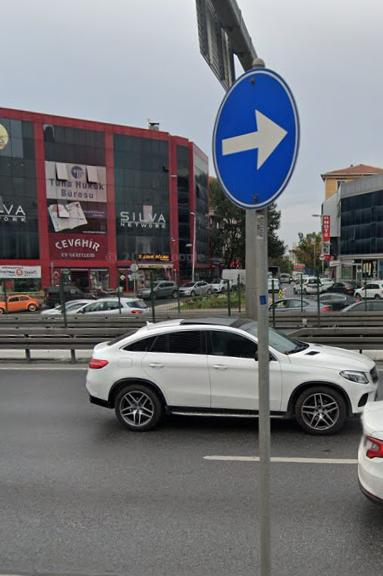turnright: (214, 69, 297, 202)
